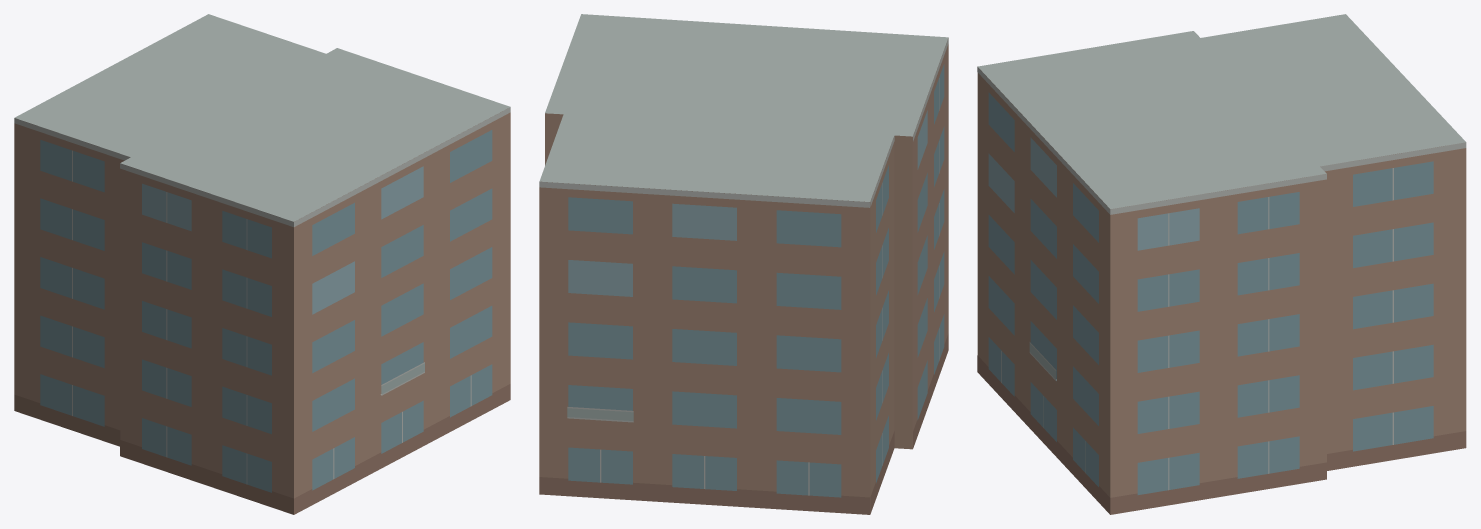
File: survey-upis-32993573.glb
3 renders of one model, left to right at view 1: azimuth 30°, elevation 25°; view 2: azimuth 150°, elevation 25°; view 3: azimuth 270°, elevation 25°, orthographic. The views are drawn at different scales.
Parts seen in each view (by area): view 1: survey-upis-32993573.tmp; view 2: survey-upis-32993573.tmp; view 3: survey-upis-32993573.tmp.
Part boxes in pixels (<box>): survey-upis-32993573.tmp: <box>14,14,510,514</box>; survey-upis-32993573.tmp: <box>539,14,948,514</box>; survey-upis-32993573.tmp: <box>977,14,1466,514</box>.
Size of the model in its own units: 18.09 by 13.2 by 19.15.
